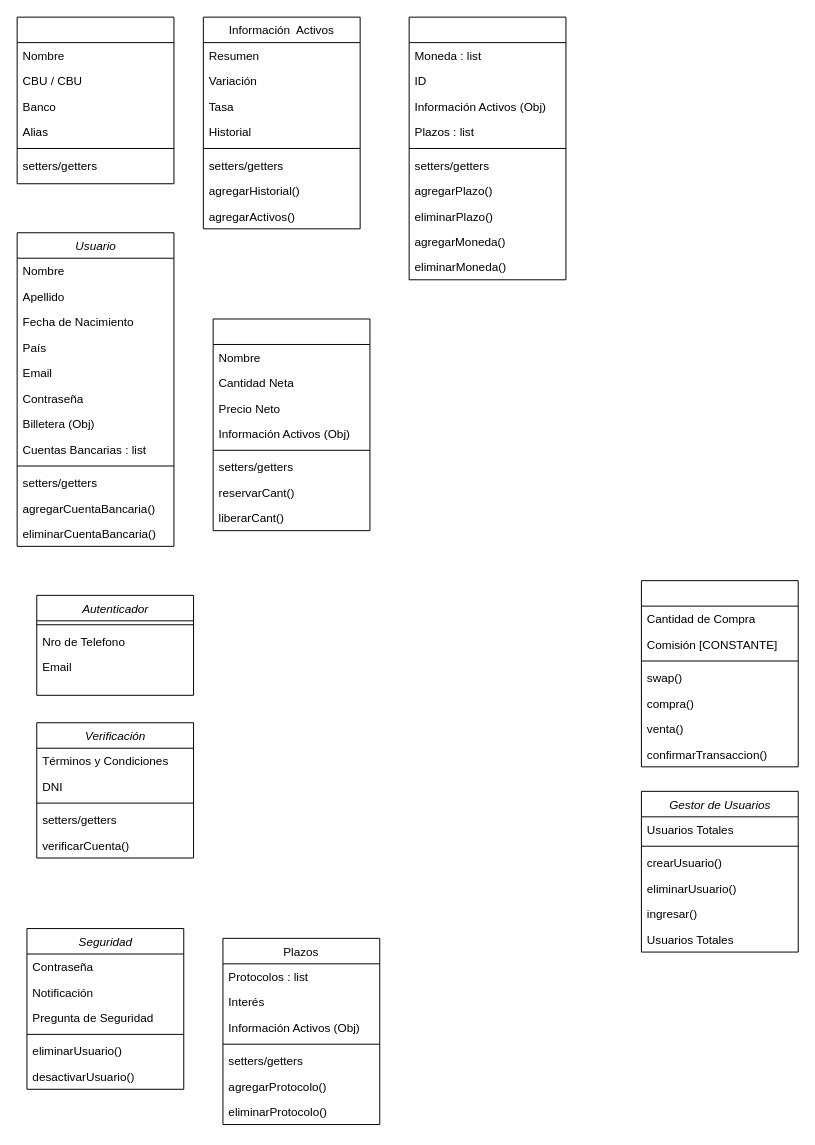
The diagram is 815 pixels wide and 1145 high, and some of its shapes have lost their labels. The shapes that lost their labels are listed below. From the top down, each one's box as (x1, y1, x2, y2) in pixels, then its label:
(16, 16, 174, 184): Cuenta Bancaria
(408, 16, 566, 280): Billetera
(212, 318, 370, 531): Moneda
(640, 580, 798, 767): Gestor de Exchange
